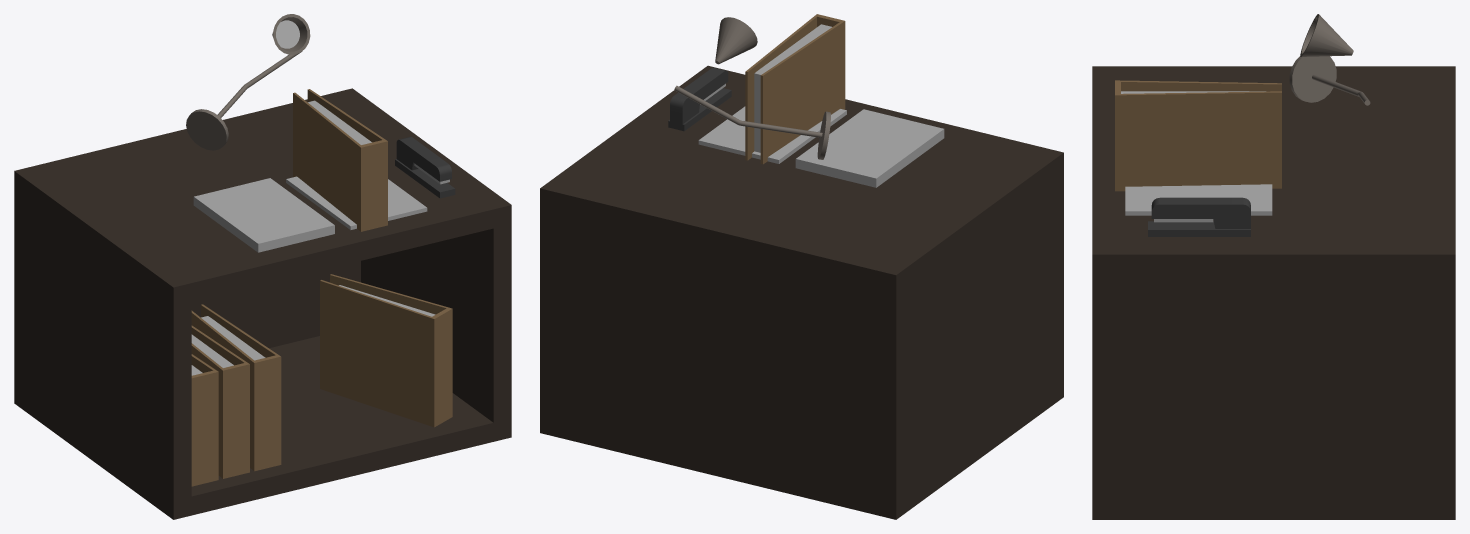
The model's file is messy2.fbx.
3 renders of one model, left to right at view 1: azimuth 30°, elevation 25°; view 2: azimuth 150°, elevation 25°; view 3: azimuth 270°, elevation 25°, orthographic. The views are drawn at different scales.
Visible parts, largest first — view 1: OrganizedFilingShelf3_polySurface1; view 2: OrganizedFilingShelf3_polySurface1; view 3: OrganizedFilingShelf3_polySurface1.
Boxes of the visible parts, x1,y1,x2,y2 form: OrganizedFilingShelf3_polySurface1: (14,14,511,519); OrganizedFilingShelf3_polySurface1: (540,14,1063,519); OrganizedFilingShelf3_polySurface1: (1092,14,1455,519).
Size of the model in its own units: 0.5659 by 0.6088 by 0.4616.
